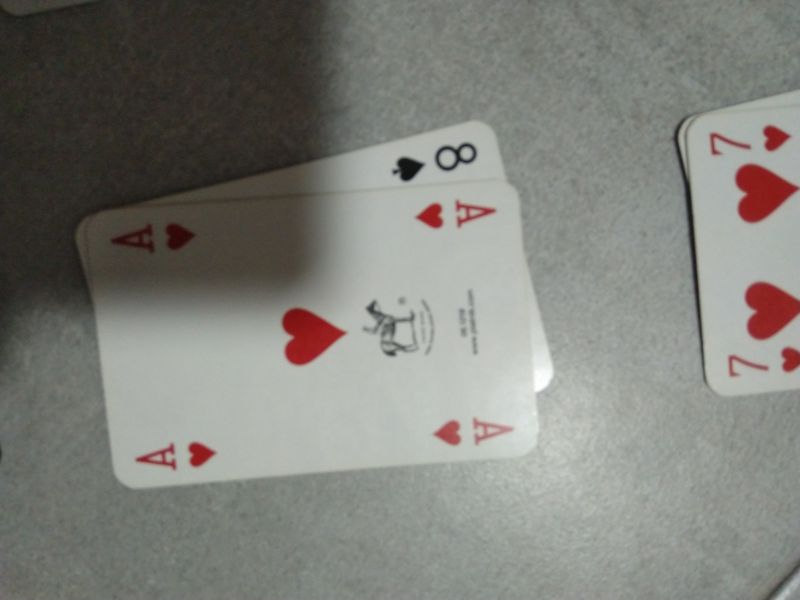7h: (698, 116, 799, 160)
8s: (385, 132, 490, 186)
Ah: (103, 215, 203, 261), (426, 406, 522, 451), (414, 189, 504, 236), (127, 433, 225, 476)
